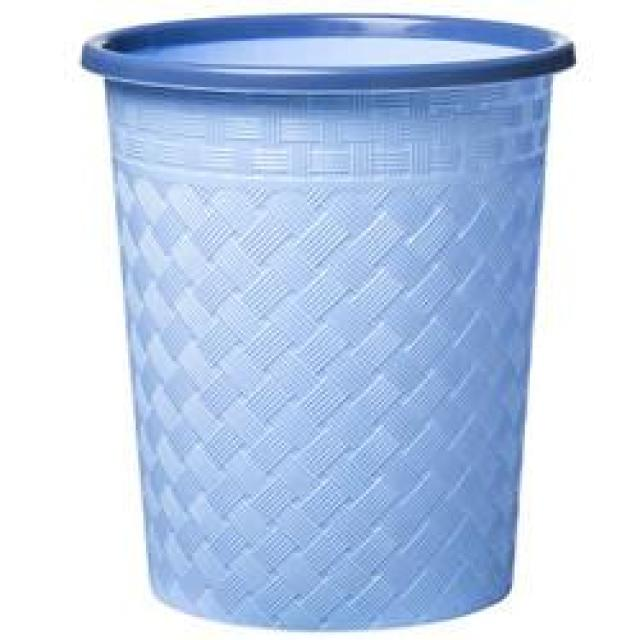dustbin: (72, 12, 591, 634)
